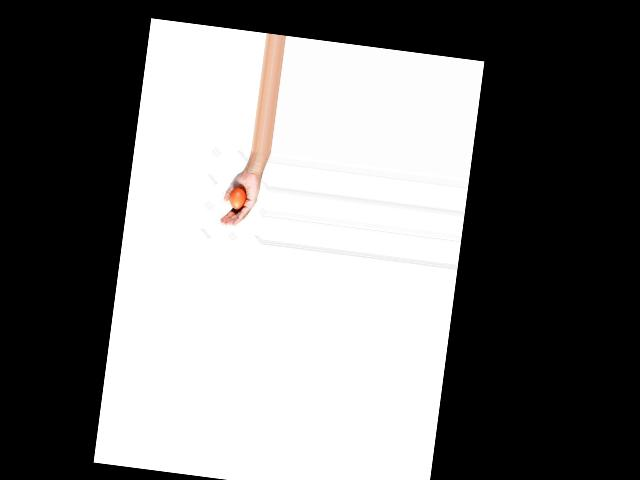egg: (228, 186, 247, 210)
